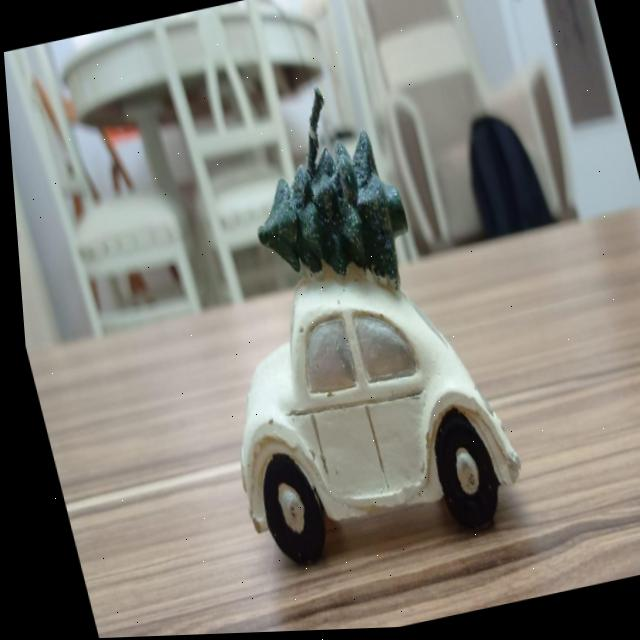vehicle: (170, 251, 523, 574)
